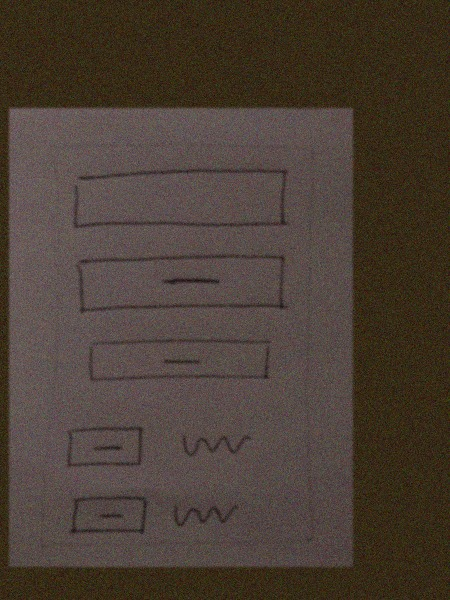button: (70, 253, 293, 317), (83, 335, 275, 389), (64, 423, 150, 474), (66, 489, 151, 539)
text: (177, 423, 256, 463), (167, 494, 247, 533)
text_input: (71, 168, 292, 237)
